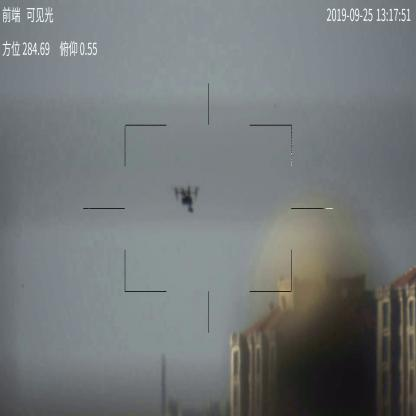uav: (175, 184, 199, 214)
